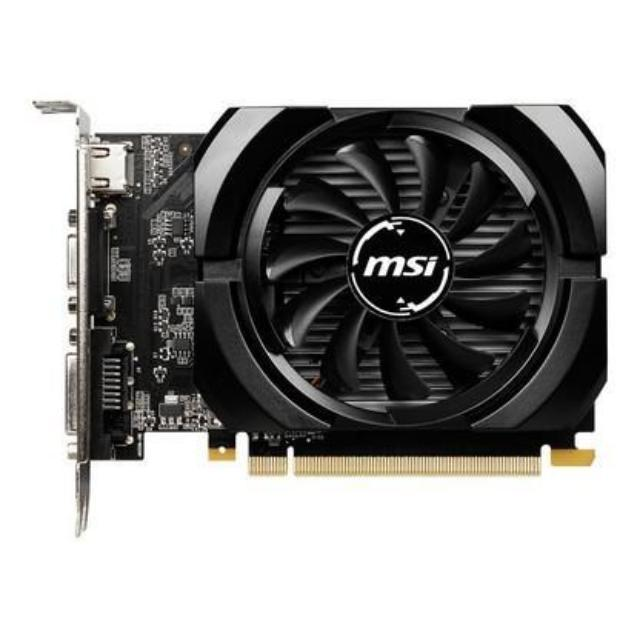GPU: (50, 92, 610, 482)
